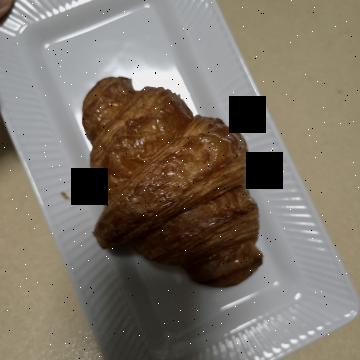croissant: (75, 82, 300, 274)
